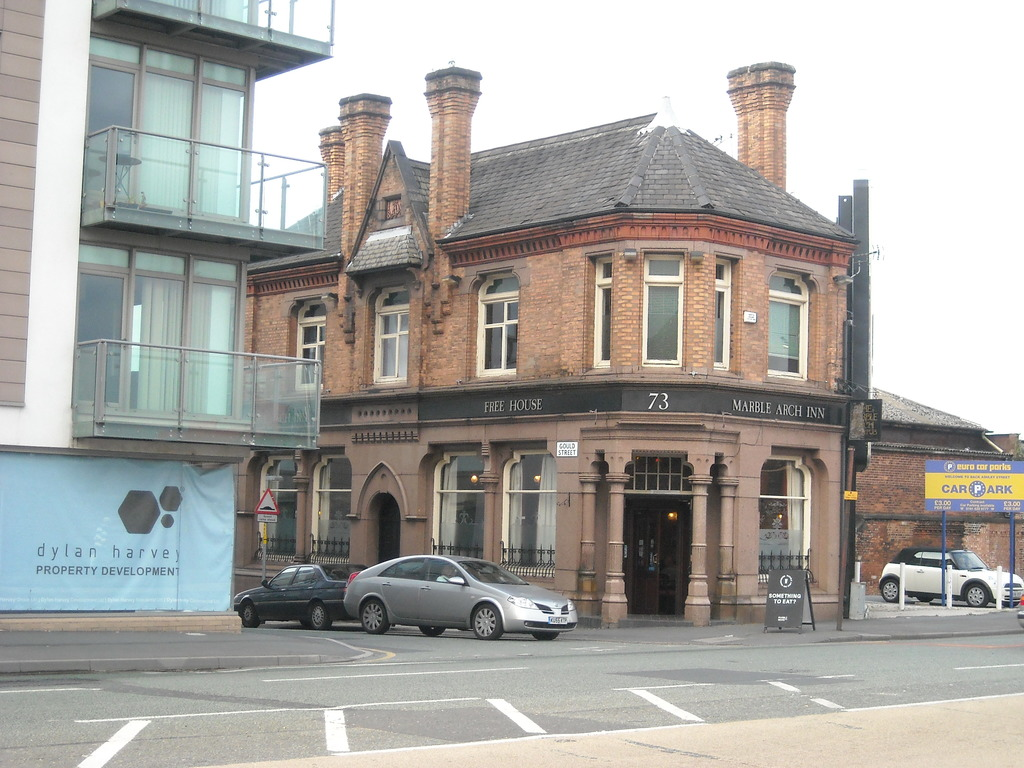Car: (346, 552, 574, 641), (229, 561, 366, 632), (871, 547, 1023, 606)
